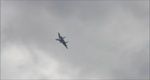maybay_muctieu: (54, 31, 69, 49)
